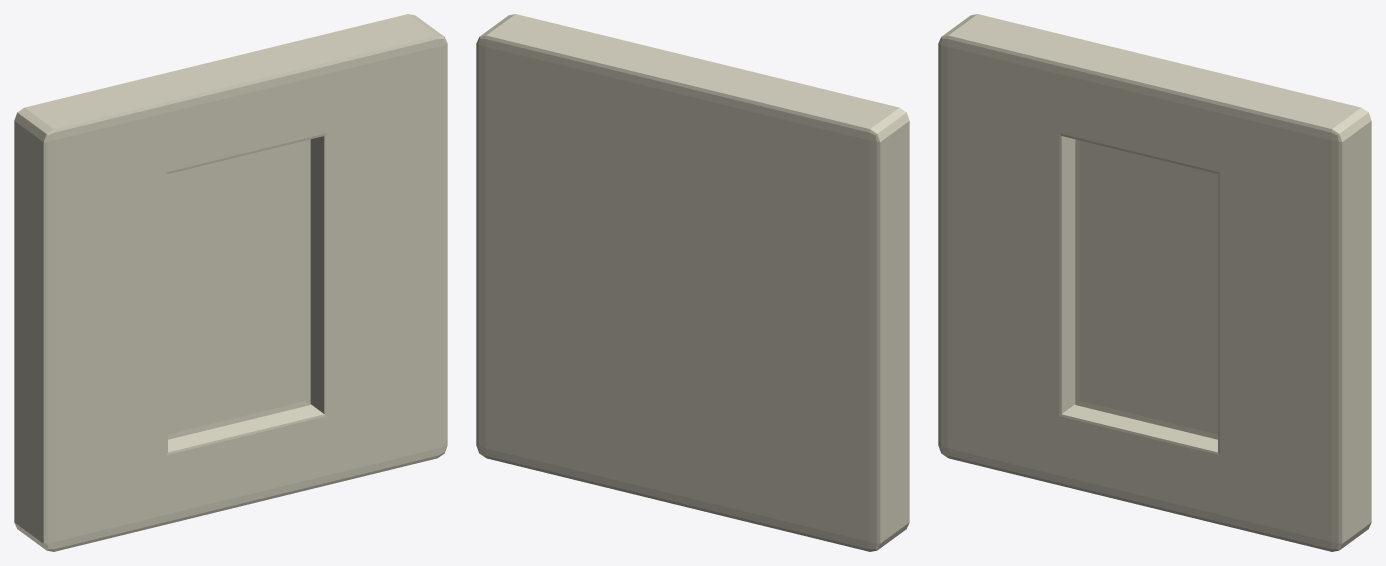
Rendered from Lightswitch_main.fbx.
3 renders of one model, left to right at view 1: azimuth 30°, elevation 25°; view 2: azimuth 150°, elevation 25°; view 3: azimuth 330°, elevation 25°, orthographic.
Visible parts, largest first — view 1: Lightswitch_main; view 2: Lightswitch_main; view 3: Lightswitch_main.
Boxes of the visible parts, x1,y1,x2,y2 form: Lightswitch_main: (14, 14, 447, 551); Lightswitch_main: (476, 14, 909, 551); Lightswitch_main: (938, 14, 1371, 551).
Size of the model in its own units: 59.59 by 59.59 by 7.91.
